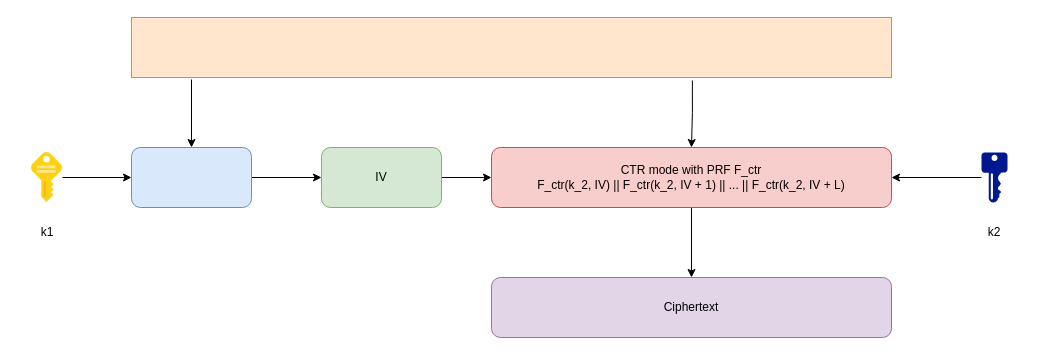
The diagram is 1042 pixels wide and 355 high, and some of its shapes have lost their labels. Each missing label, with the centre of its shape:
"Message" goes at (511,47).
"PRF F" goes at (191,177).
